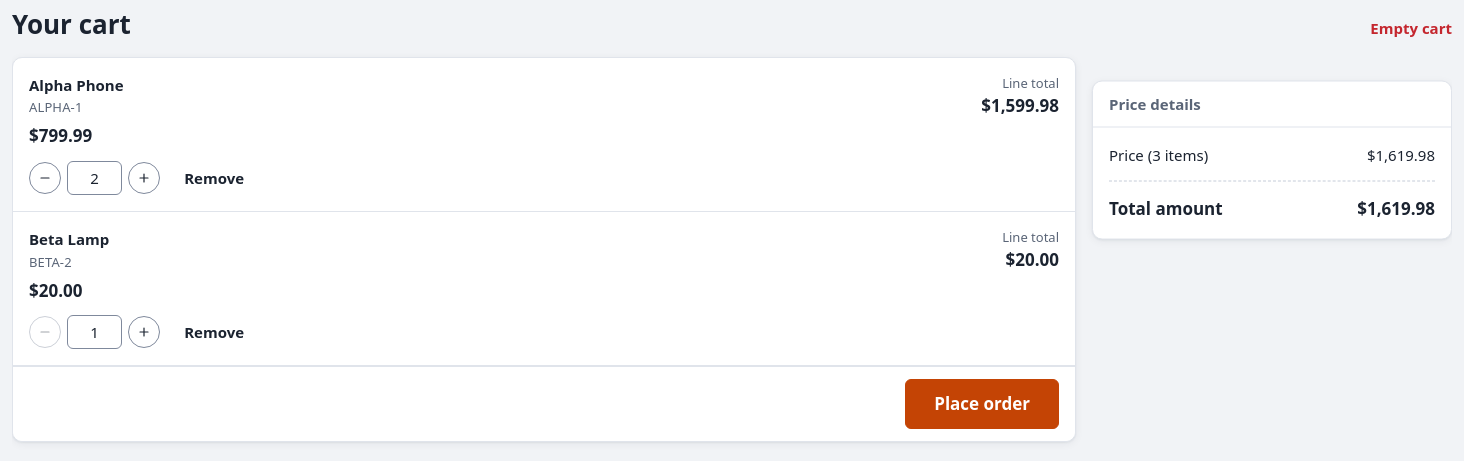
it: Cart page › changing a quantity › sends the new quantity and shows the new line total, count and total
Expected: the text "Alpha Phone" is shown, [29,74,125,96]
Replace the text in the number field named "Quantity of Alpha Phone" with "4" at (95, 178), box [67,161,122,195]
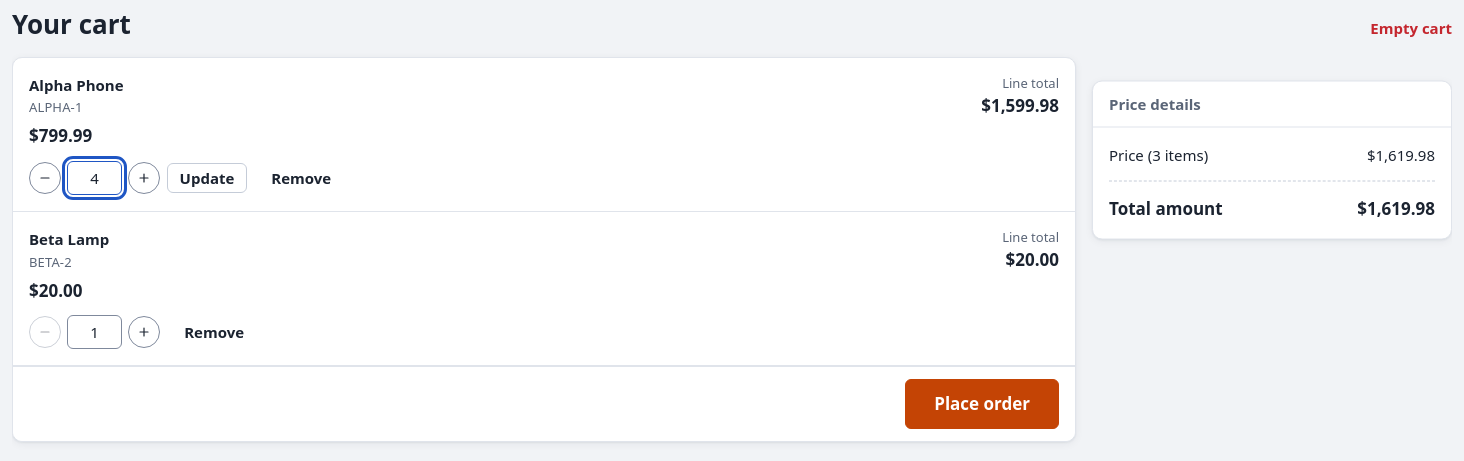
Click the button with aria-label "Update quantity of Alpha Phone" at (207, 178), box [167,163,247,193]
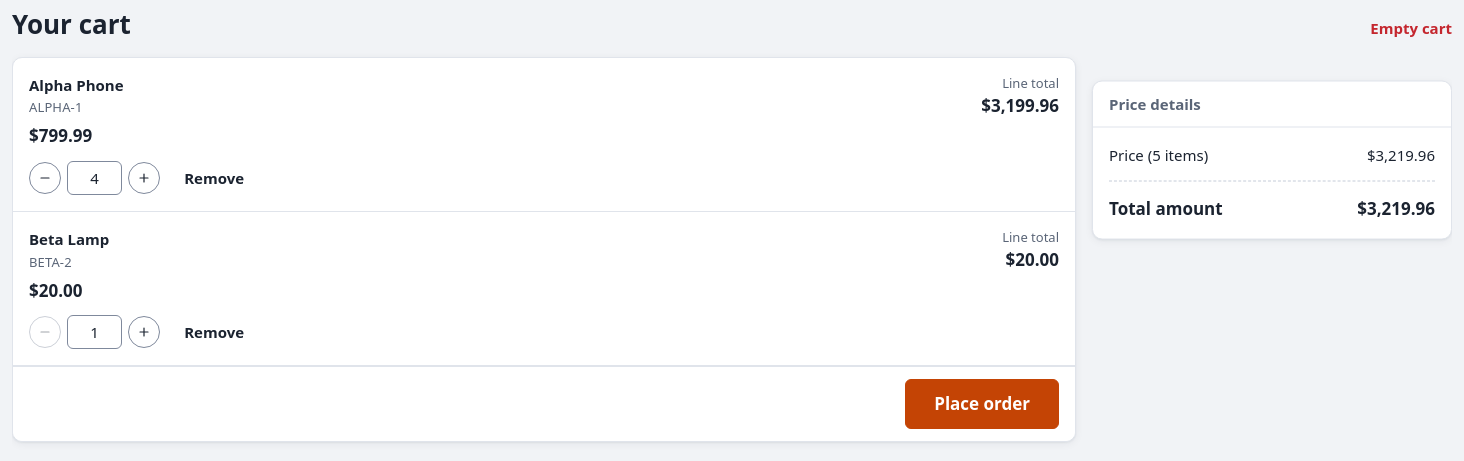
Now the text "$3,199.96" is shown, box [981,93,1059,118]
Now the text "Price (5 items)" is shown, box [1109,144,1208,166]
Now the text "$3,219.96" next to "Total amount" is shown, box [1357,196,1435,219]
